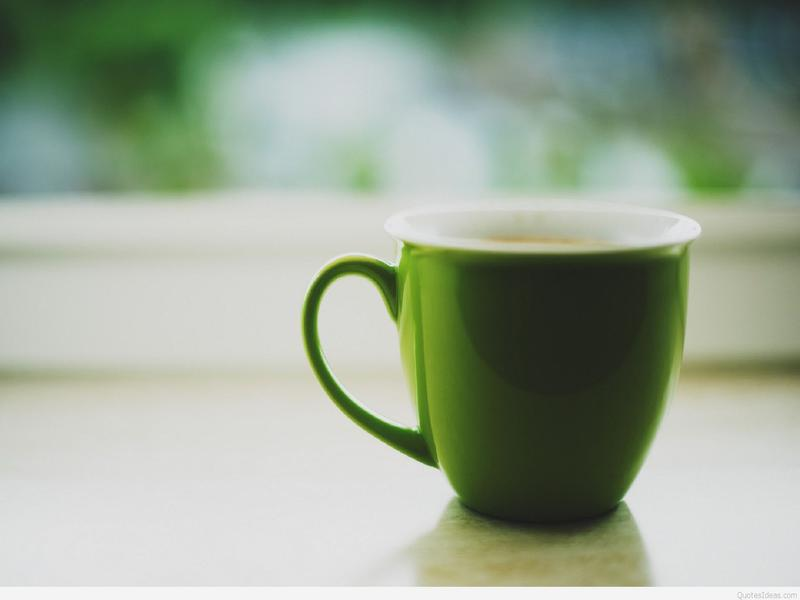cup: (292, 195, 726, 535)
